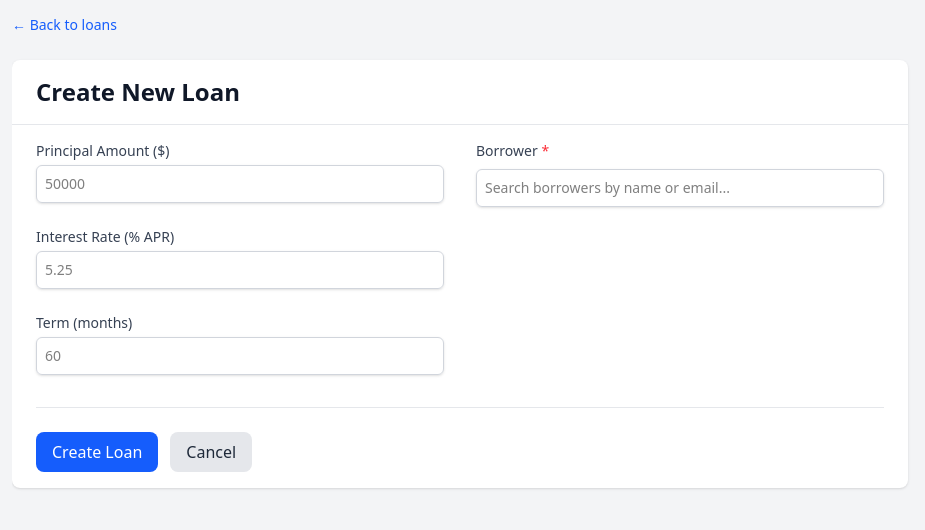
Test case: LoanForm › Form Validation › shows error for principal amount exceeding maximum
Type "100000000" into the number field labelled "Principal Amount ($)" at (240, 184), box [36,165,444,203]
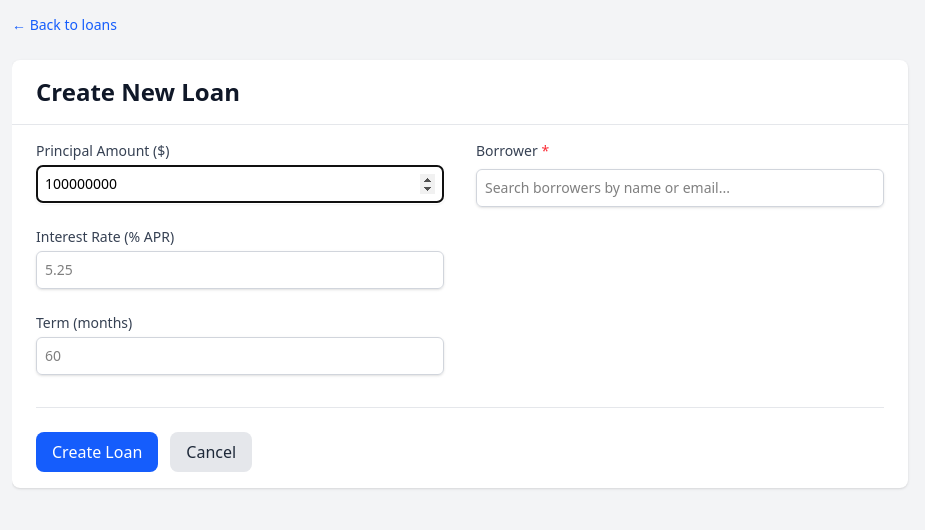
Type "5" into the number field labelled "Interest Rate (% APR)" at (240, 270), box [36,251,444,289]
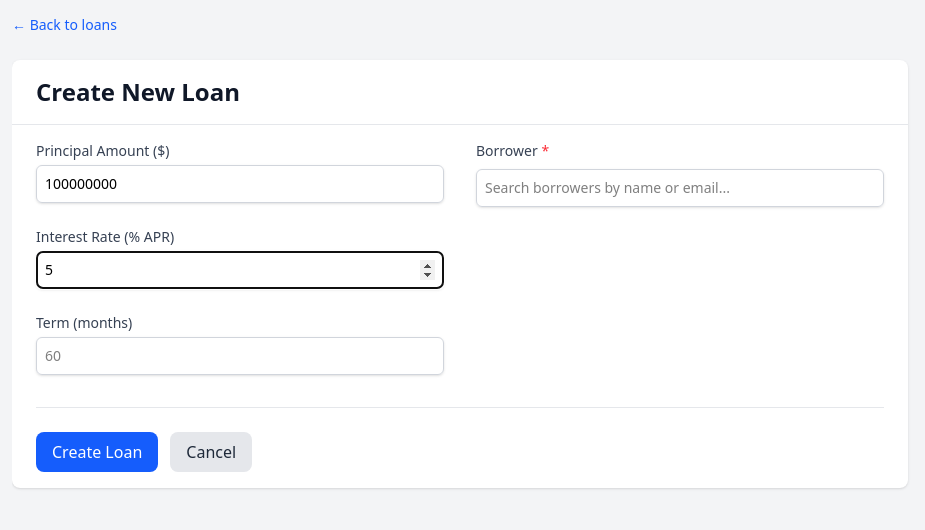
Type "12" into the number field labelled "Term (months)" at (240, 356), box [36,337,444,375]
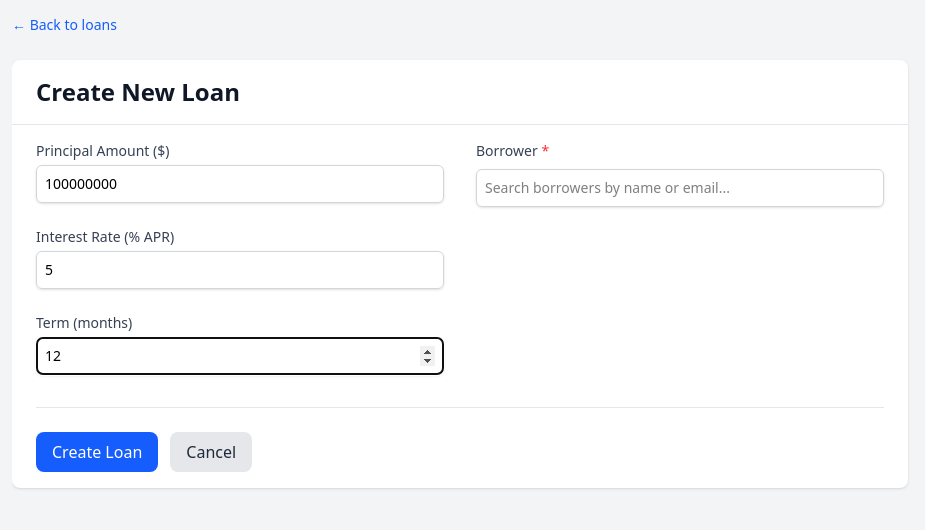
Click the button "Create Loan" at (97, 452), box [36,432,158,472]
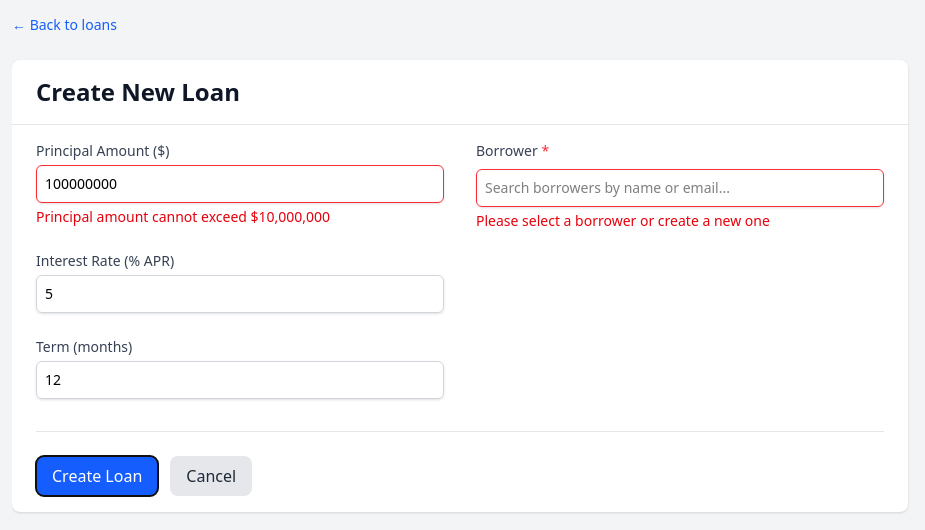
expect the text "Principal amount cannot exceed $10,000,000" is shown: met, box [36,207,330,226]
